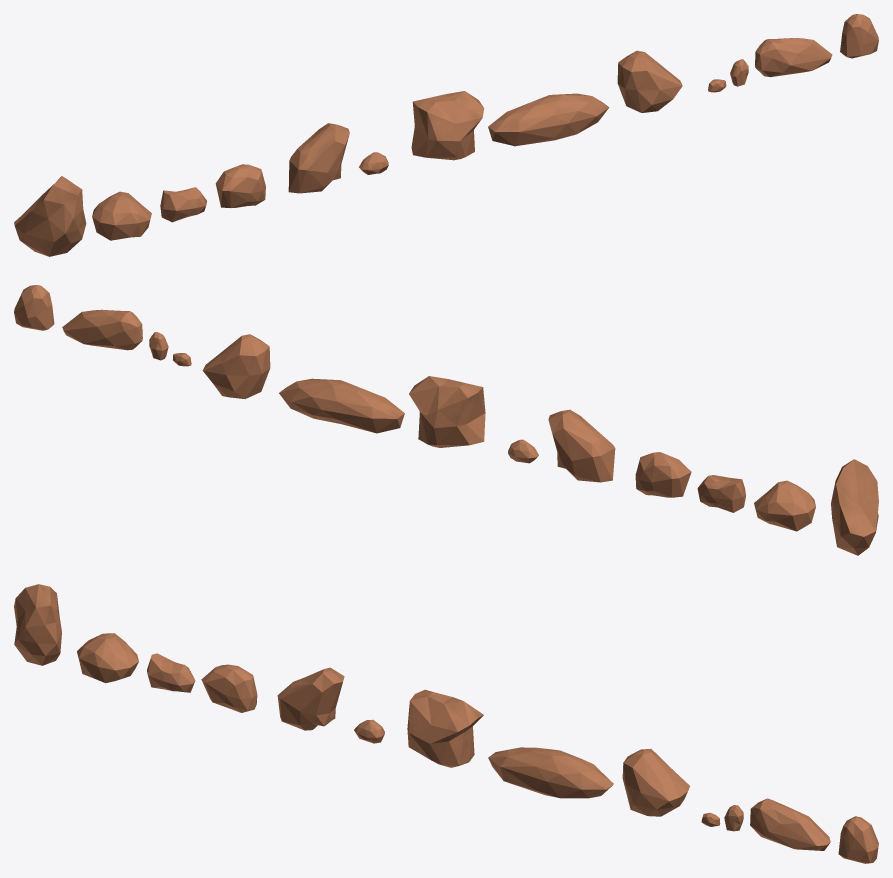
The model's file is StringMountains.glb.
The picture shows the model from 3 angles, top to bottom: view 1: azimuth 30°, elevation 25°; view 2: azimuth 150°, elevation 25°; view 3: azimuth 330°, elevation 25°; orthographic projection. The views are drawn at different scales.
Parts seen in each view (by area): view 1: node_id449, node_id434, node_id452, node_id440, node_id428, node_id401, node_id431, node_id443, node_id392, node_id446, node_id437; view 2: node_id434, node_id449, node_id452, node_id440, node_id428, node_id401, node_id431, node_id443, node_id392, node_id446, node_id437; view 3: node_id449, node_id434, node_id452, node_id428, node_id440, node_id401, node_id431, node_id443, node_id392, node_id446.
Part boxes in pixels (x1=…): node_id449: x1=488, y1=93, x2=609, y2=146; node_id434: x1=411, y1=91, x2=484, y2=160; node_id452: x1=14, y1=176, x2=86, y2=256; node_id440: x1=288, y1=123, x2=349, y2=193; node_id428: x1=617, y1=50, x2=682, y2=112; node_id401: x1=755, y1=38, x2=832, y2=77; node_id431: x1=92, y1=191, x2=151, y2=240; node_id443: x1=215, y1=164, x2=265, y2=207; node_id392: x1=840, y1=14, x2=878, y2=58; node_id446: x1=160, y1=187, x2=206, y2=222; node_id437: x1=359, y1=152, x2=388, y2=174; node_id434: x1=409, y1=376, x2=485, y2=447; node_id449: x1=279, y1=378, x2=404, y2=433; node_id452: x1=831, y1=459, x2=878, y2=555; node_id440: x1=548, y1=409, x2=615, y2=482; node_id428: x1=202, y1=334, x2=270, y2=398; node_id401: x1=62, y1=309, x2=142, y2=350; node_id431: x1=754, y1=480, x2=815, y2=531; node_id443: x1=635, y1=452, x2=691, y2=497; node_id392: x1=14, y1=285, x2=54, y2=330; node_id446: x1=697, y1=475, x2=745, y2=512; node_id437: x1=508, y1=439, x2=538, y2=463; node_id449: x1=488, y1=747, x2=613, y2=798; node_id434: x1=407, y1=689, x2=483, y2=767; node_id452: x1=14, y1=584, x2=61, y2=665; node_id428: x1=622, y1=749, x2=689, y2=816; node_id440: x1=277, y1=667, x2=344, y2=730; node_id401: x1=750, y1=798, x2=830, y2=850; node_id431: x1=77, y1=633, x2=138, y2=683; node_id443: x1=201, y1=664, x2=257, y2=712; node_id392: x1=838, y1=816, x2=878, y2=863; node_id446: x1=147, y1=653, x2=195, y2=692.
Size of the model in its own units: 0.4343 by 0.0411 by 0.0309.
Materials: 13 (13 with a texture image).
